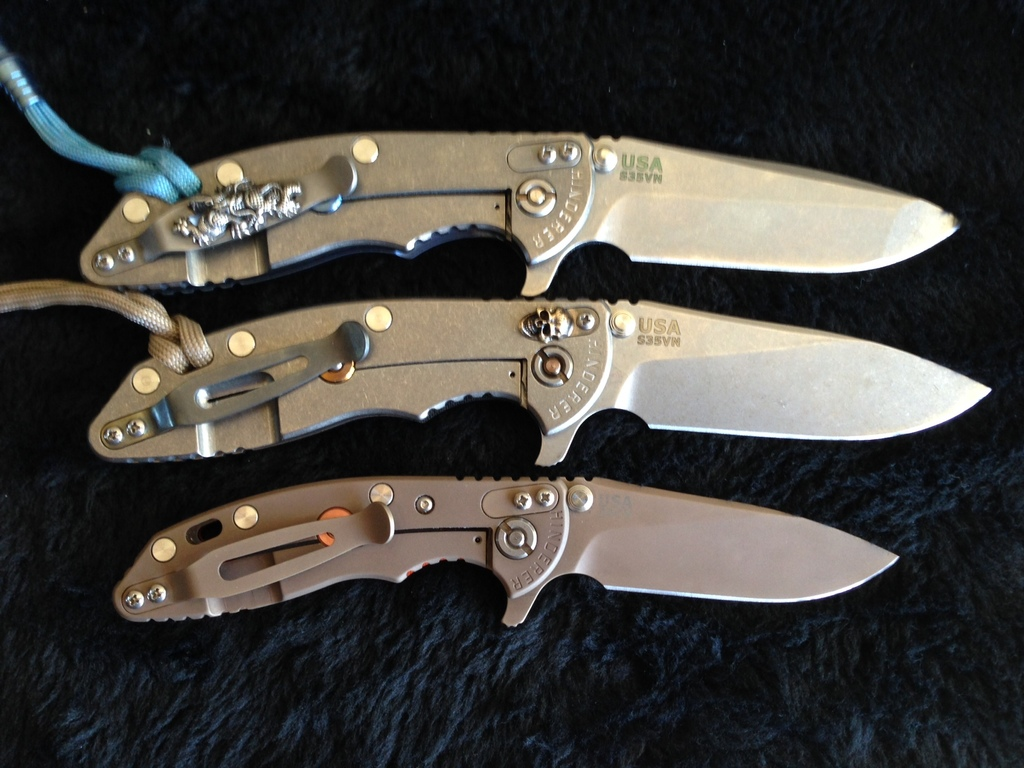knife: (87, 296, 993, 470), (76, 130, 961, 297), (111, 475, 899, 628)
